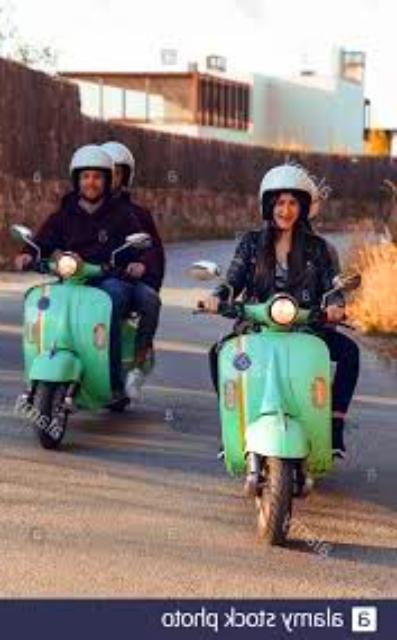helm: (257, 163, 325, 233), (66, 143, 118, 205), (97, 142, 140, 193)
motor: (179, 257, 370, 549), (6, 218, 166, 452)
